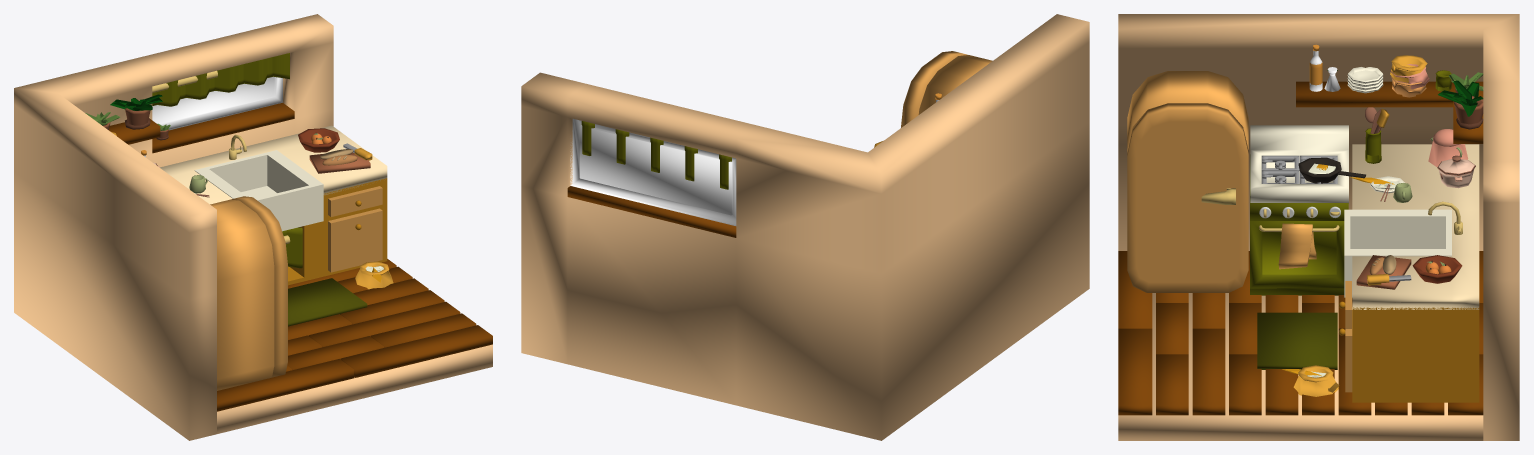
Rendered from proj1_kitchen2.glb.
The picture shows the model from 3 angles, left to right: view 1: azimuth 30°, elevation 25°; view 2: azimuth 150°, elevation 25°; view 3: azimuth 270°, elevation 25°; orthographic projection. The views are drawn at different scales.
Visible parts, largest first — view 1: wall, wooden floor, fridge, floor, counter sink, counter top, counter.001, wall.001, counter, curtain, fridge door, Plane (+5 smaller); view 2: wall, wall.001, curtain, fridge, fridge door; view 3: wall, wooden floor, fridge door, counter, floor, counter top, cooking range main, cooking range top, counter sink, Plane, fridge, shelf (+16 smaller).
Boxes of the visible parts, bbox=[...] form: wall: bbox=[14, 14, 333, 440]; wooden floor: bbox=[217, 259, 492, 411]; fridge: bbox=[210, 199, 274, 390]; floor: bbox=[217, 344, 492, 433]; counter sink: bbox=[194, 150, 323, 231]; counter top: bbox=[160, 125, 387, 204]; counter.001: bbox=[328, 186, 382, 272]; wall.001: bbox=[152, 76, 282, 130]; counter: bbox=[288, 178, 387, 285]; curtain: bbox=[152, 53, 289, 106]; fridge door: bbox=[231, 196, 287, 377]; Plane: bbox=[288, 278, 367, 326]; wall: bbox=[521, 14, 1089, 440]; wall.001: bbox=[570, 118, 736, 225]; curtain: bbox=[581, 121, 731, 189]; fridge: bbox=[918, 55, 992, 114]; fridge door: bbox=[901, 51, 967, 127]; wall: bbox=[1118, 14, 1519, 440]; wooden floor: bbox=[1118, 251, 1483, 415]; fridge door: bbox=[1127, 103, 1248, 292]; counter: bbox=[1352, 307, 1479, 402]; floor: bbox=[1118, 293, 1483, 440]; counter top: bbox=[1352, 144, 1479, 309]; cooking range main: bbox=[1250, 154, 1348, 295]; cooking range top: bbox=[1250, 125, 1348, 203]; counter sink: bbox=[1344, 209, 1451, 297]; Plane: bbox=[1257, 312, 1337, 369]; fridge: bbox=[1127, 71, 1248, 149]; shelf: bbox=[1296, 81, 1483, 143].
Bounding box in the file's own units: 8.24 × 5.83 × 8.24.
